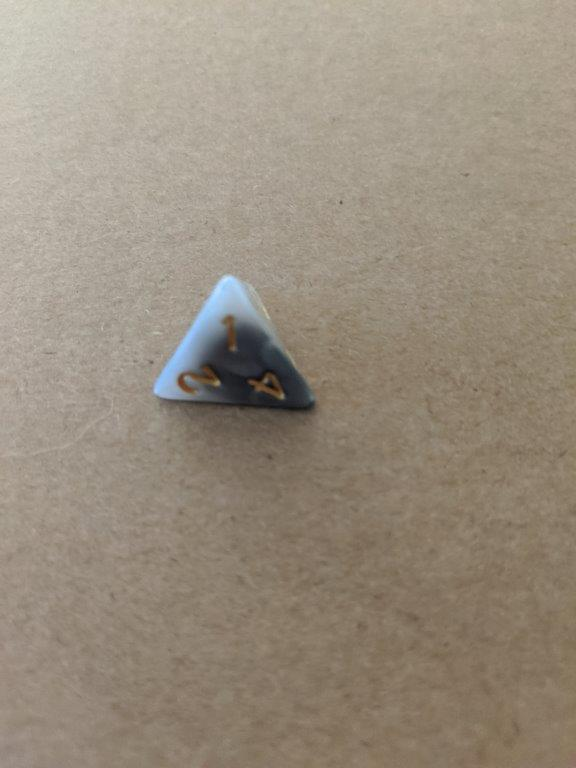d4-1: (144, 271, 318, 419)
